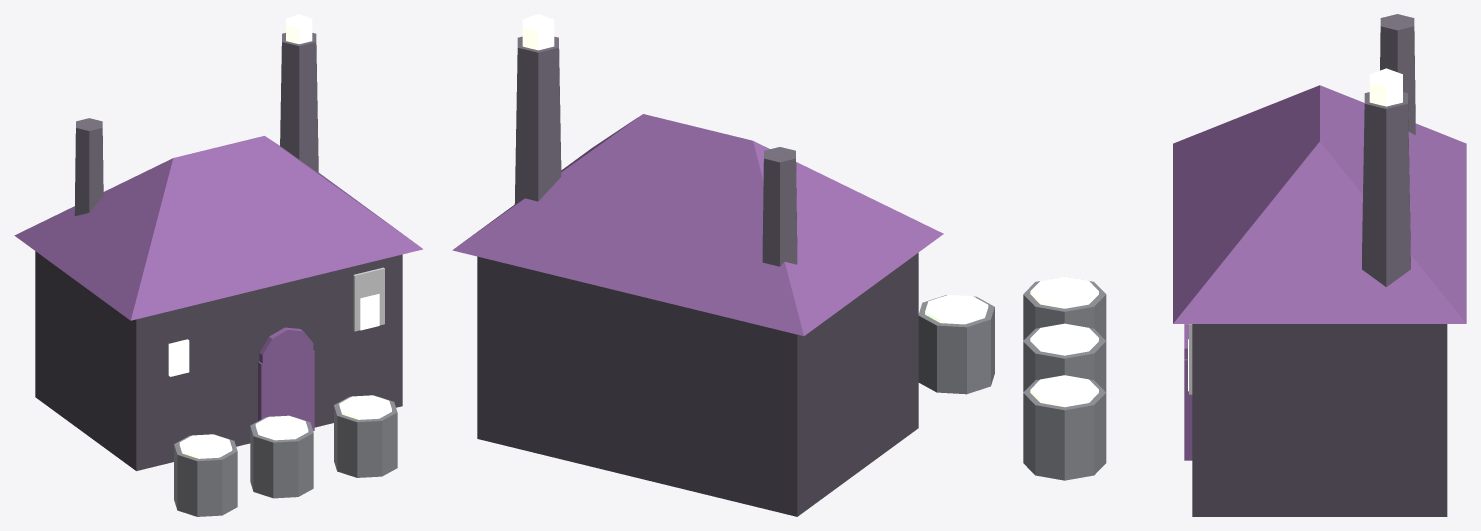
The picture shows the model from 3 angles, left to right: view 1: azimuth 30°, elevation 25°; view 2: azimuth 150°, elevation 25°; view 3: azimuth 270°, elevation 25°; orthographic projection. The views are drawn at different scales.
Parts seen in each view (by area): view 1: body; view 2: body; view 3: body.
Boxes of the visible parts, bbox=[...] form: body: bbox=[14, 14, 422, 516]; body: bbox=[452, 14, 994, 516]; body: bbox=[1023, 14, 1466, 516].
Size of the model in its own units: 7.7 by 8.6 by 8.
